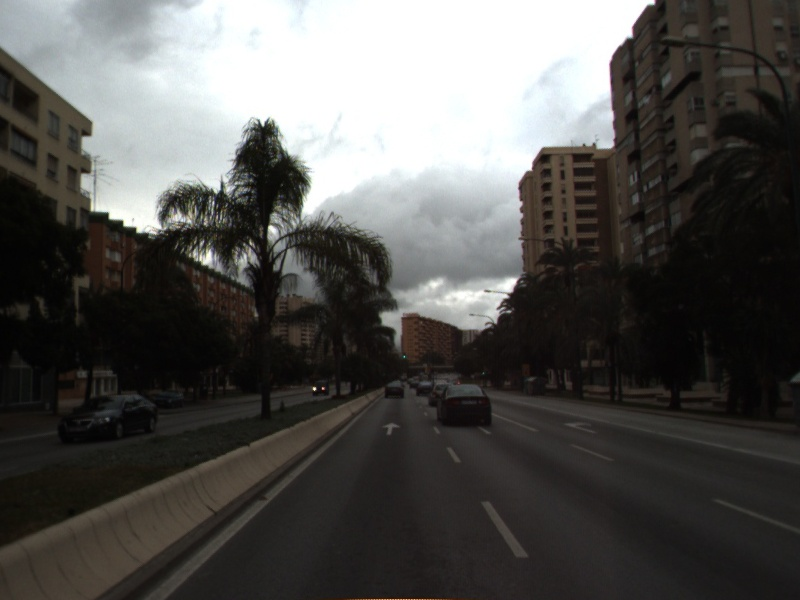RIGHT: (561, 419, 599, 436)
STRAIGHT: (379, 420, 403, 437)
